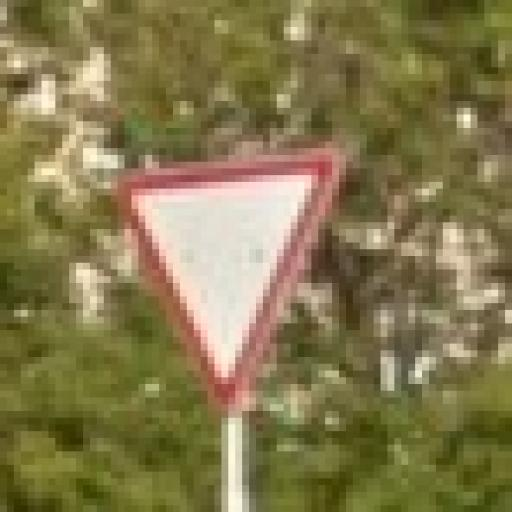traffic_sign: (112, 149, 347, 412)
